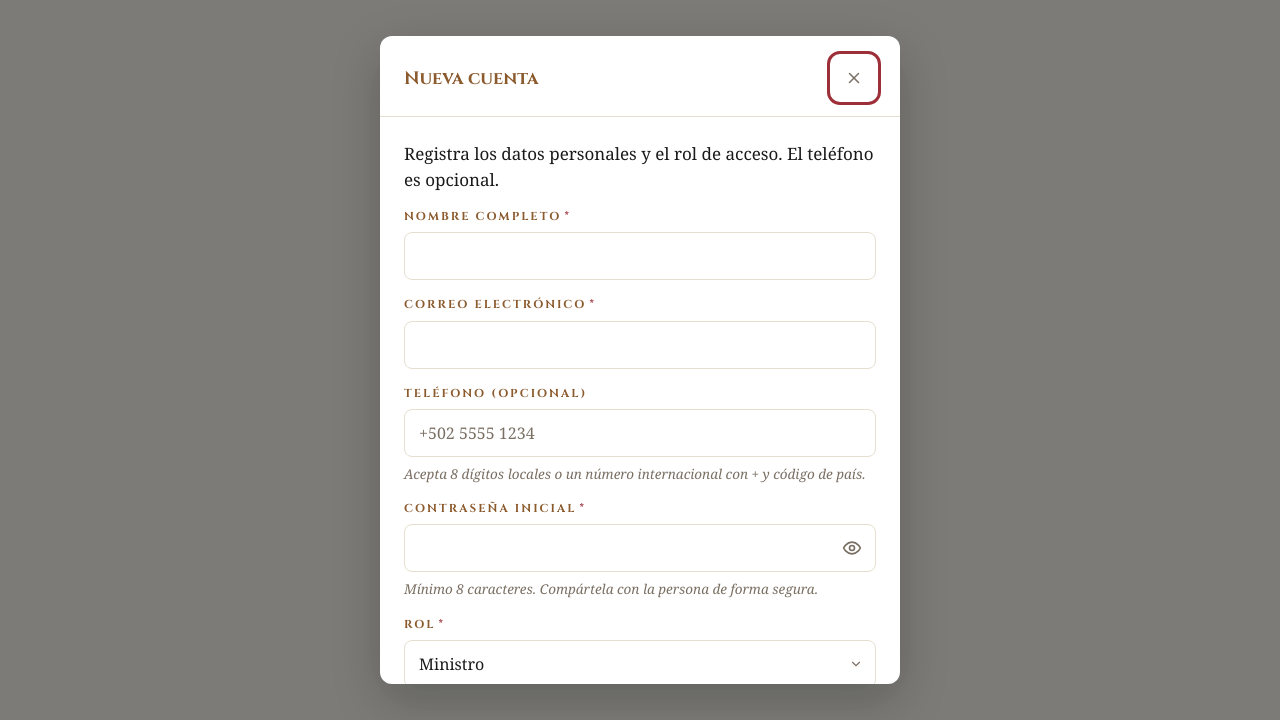
Test: teléfono en nueva cuenta › rechaza teléfonos y correos inválidos
Step 1. Type "Ana" into the field labelled "Nombre completo" → (640, 256), box [404, 232, 876, 280]
Step 2. Type "ana@example.com" into the field labelled "Correo electrónico" → (640, 344), box [404, 320, 876, 368]
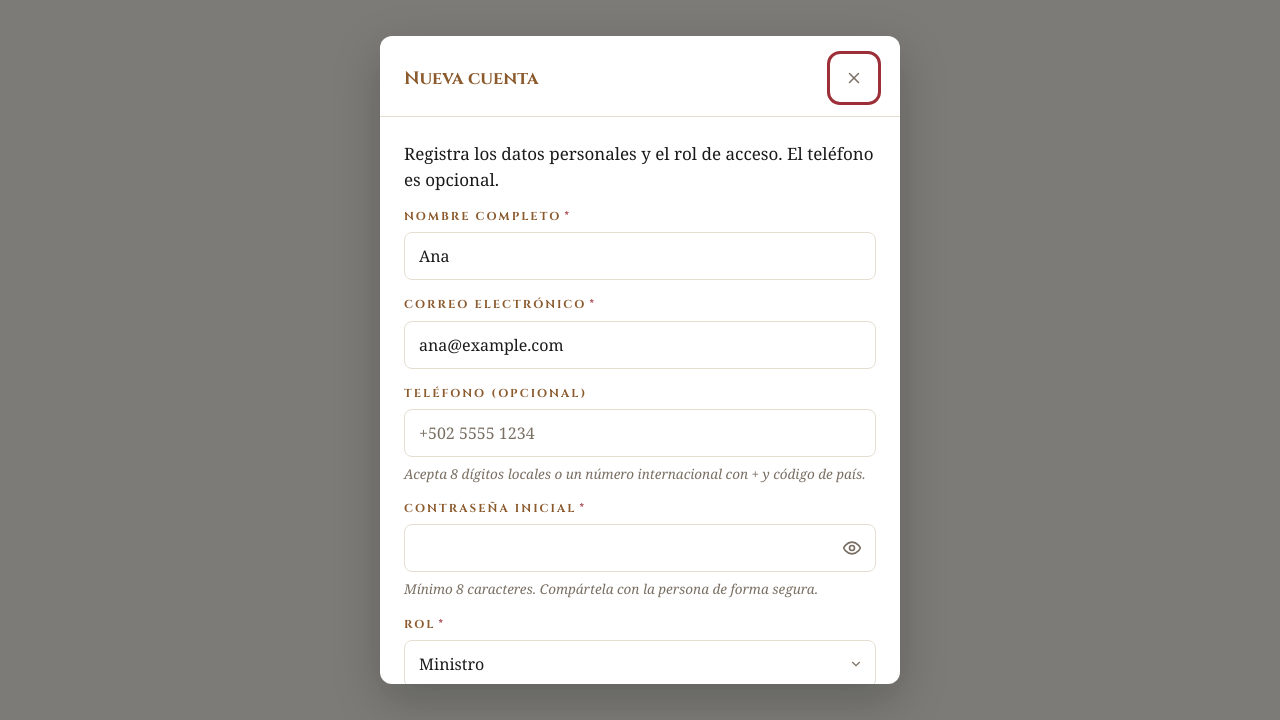
Step 3. Type "Clave-Segura-1" into the password field labelled "Contraseña inicial" → (640, 548), box [404, 524, 876, 572]
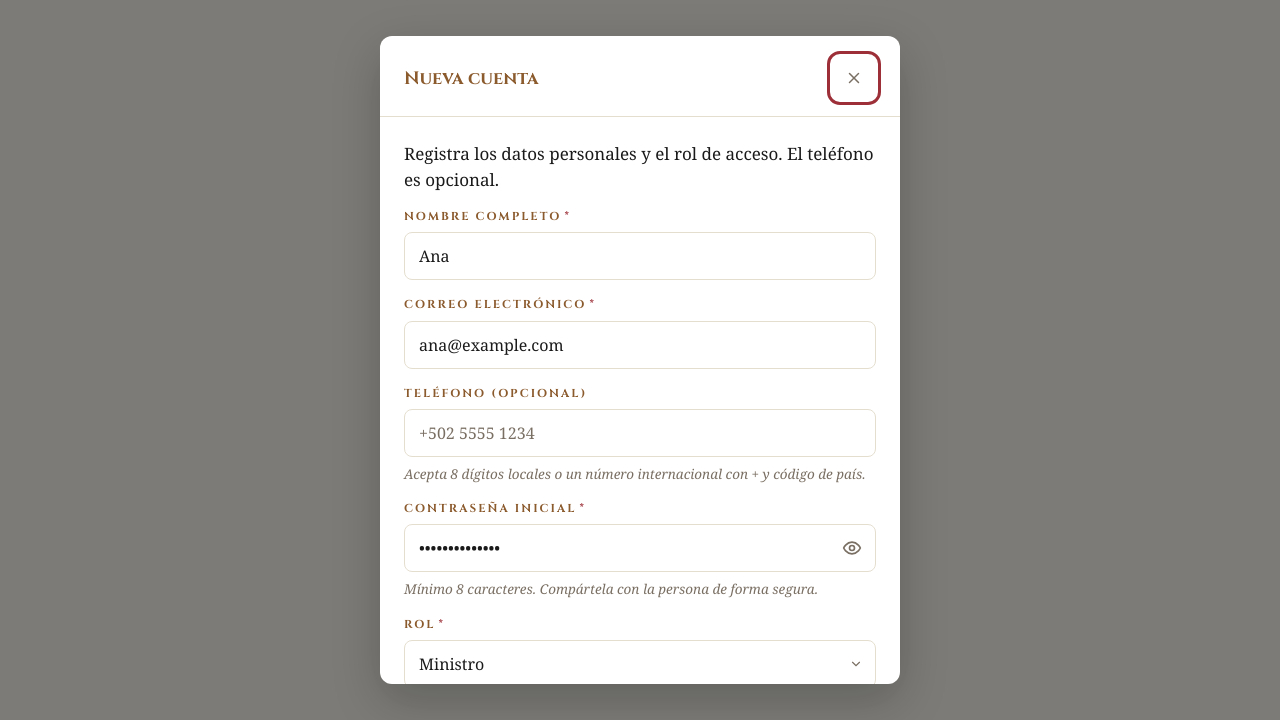
Step 4. Type "abc" into the field labelled "Teléfono (opcional)" → (640, 433), box [404, 409, 876, 457]
(page scrolled)
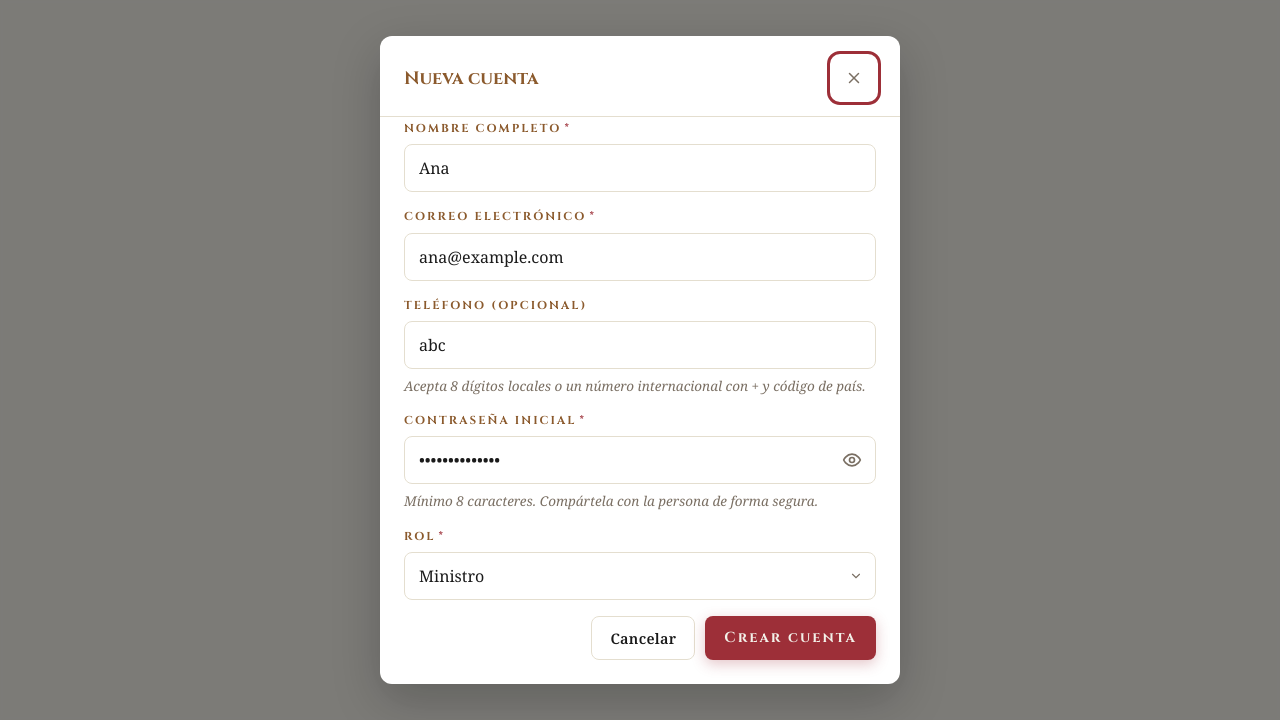
Step 5. Click the button "Crear cuenta" → (791, 638), box [705, 616, 876, 660]
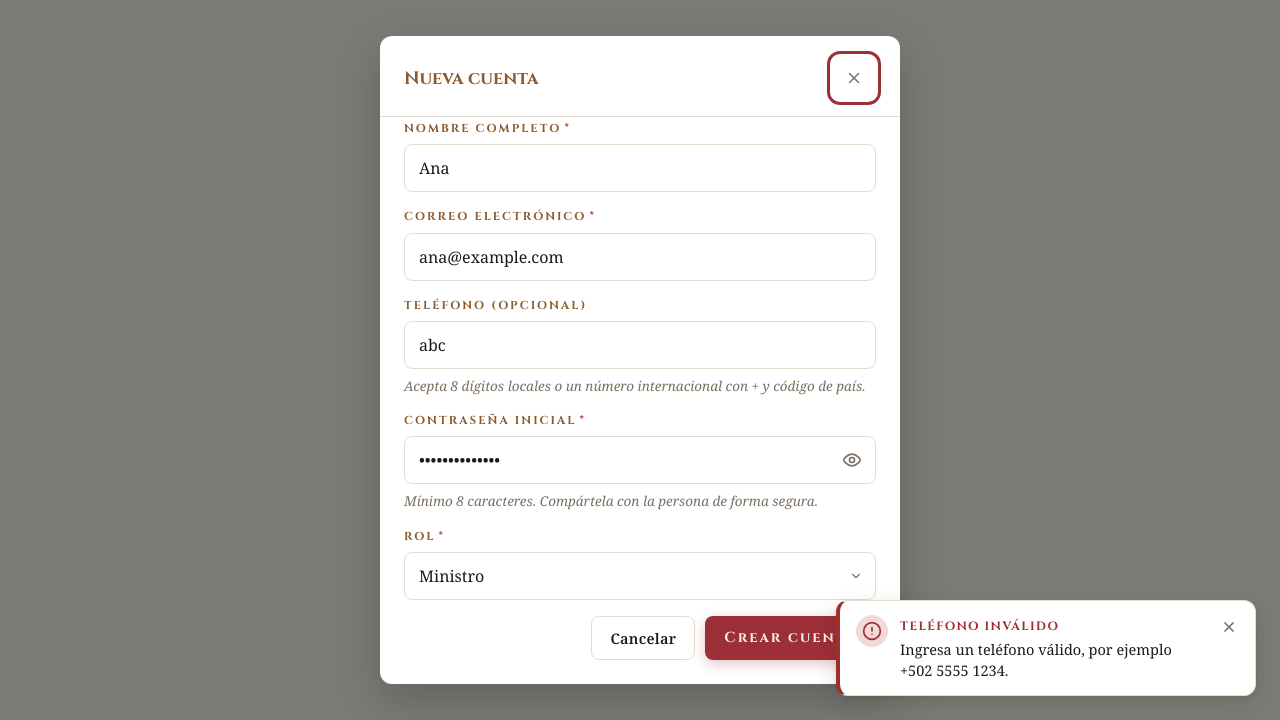
Expected: the message shows "Teléfono inválido", [900, 618, 1060, 634]
Step 6. Replace the text in the field labelled "Correo electrónico" with "incorrecto" → (640, 256), box [404, 232, 876, 280]
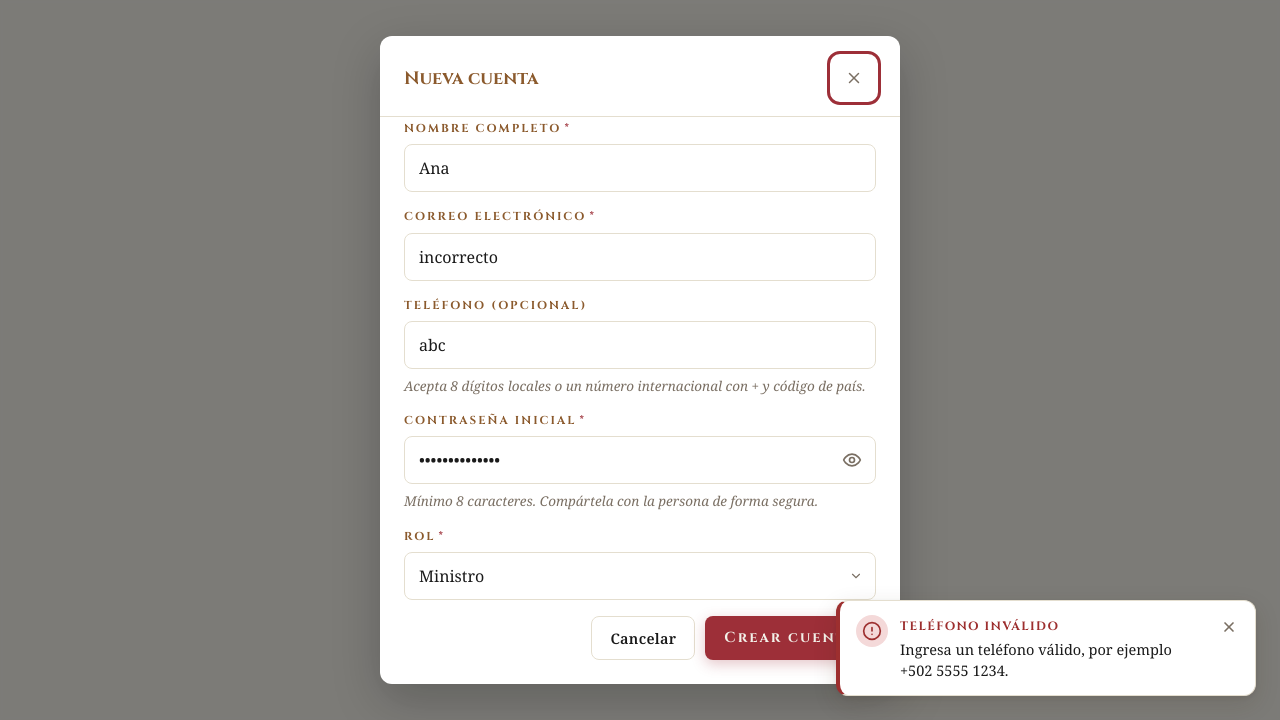
Step 7. Click the button "Crear cuenta" → (791, 638), box [705, 616, 876, 660]
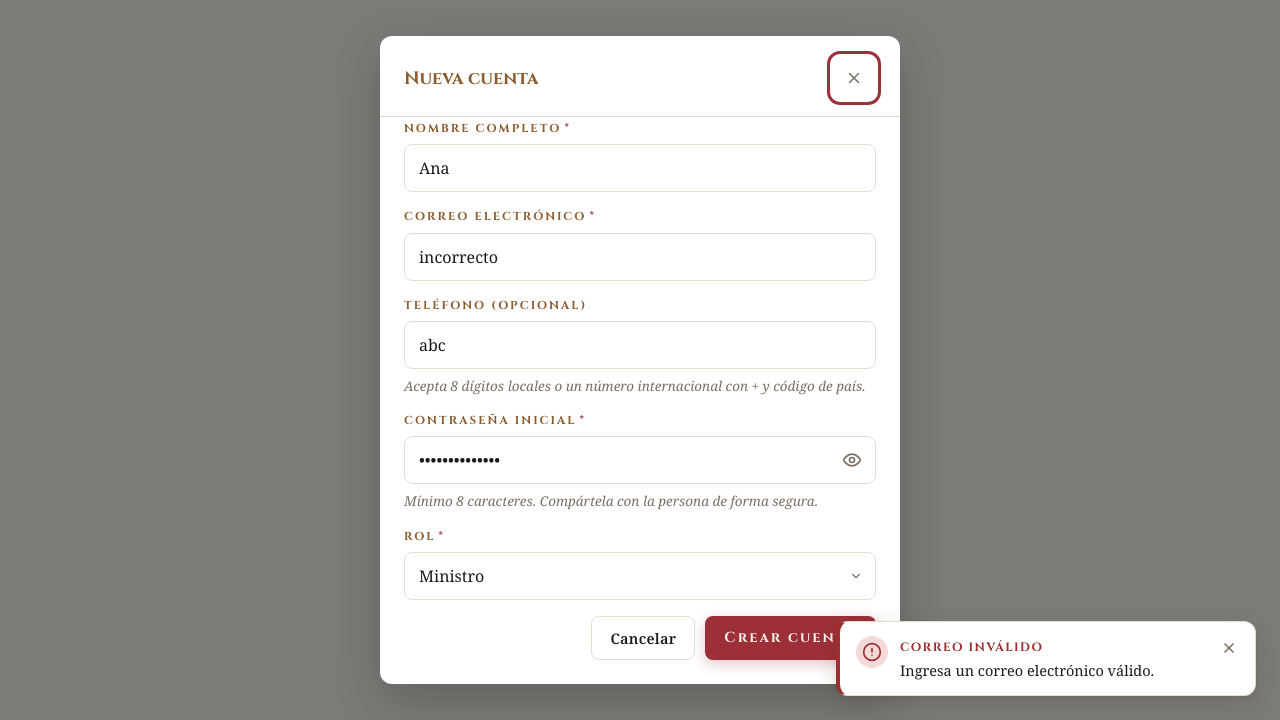
Expected: the message shows "Correo inválido", [900, 639, 1044, 655]
